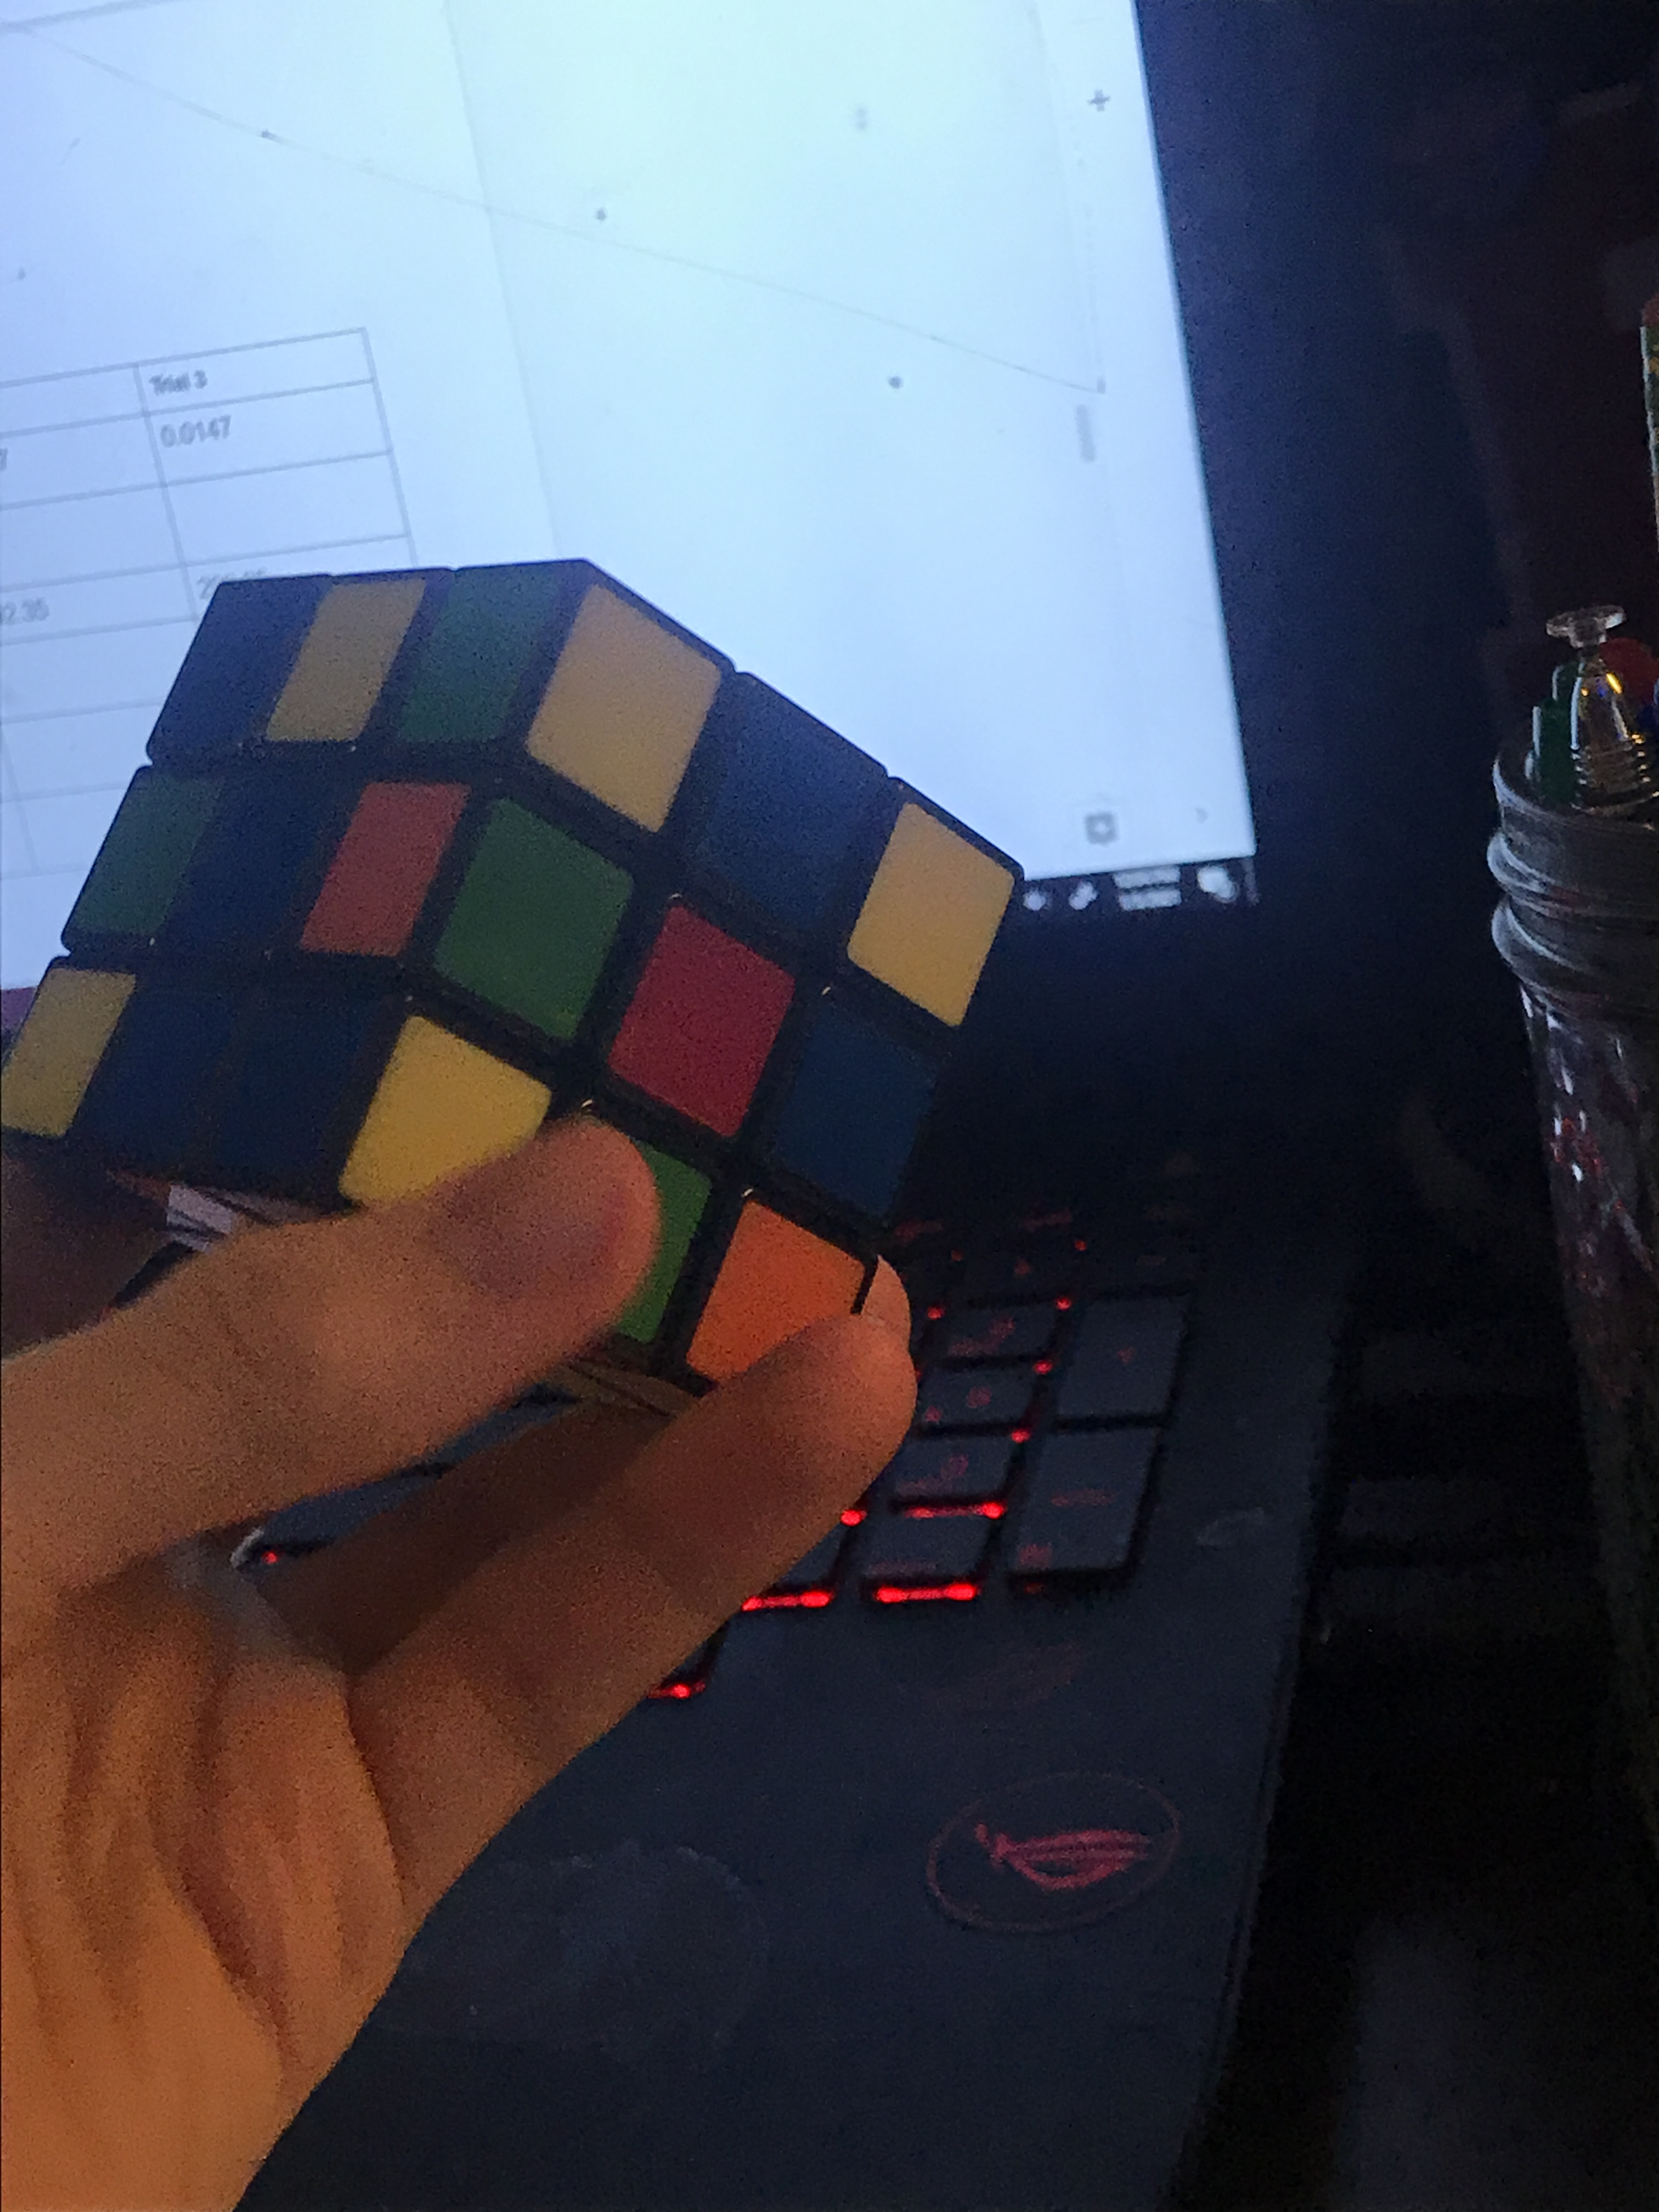rubiks: (19, 563, 1023, 1440)
